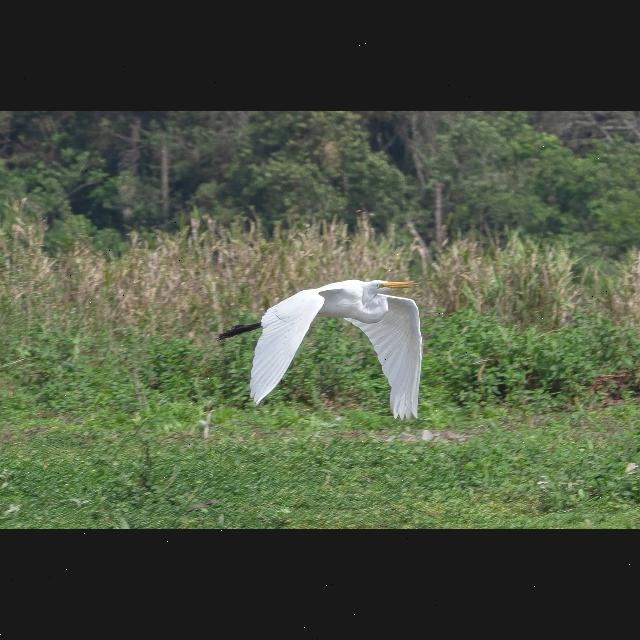egret: (214, 272, 442, 423)
